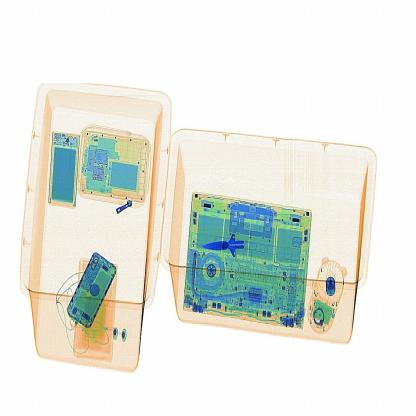gun: (196, 215, 262, 273)
